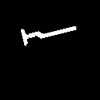half_double_crochet: (21, 27, 75, 45)
